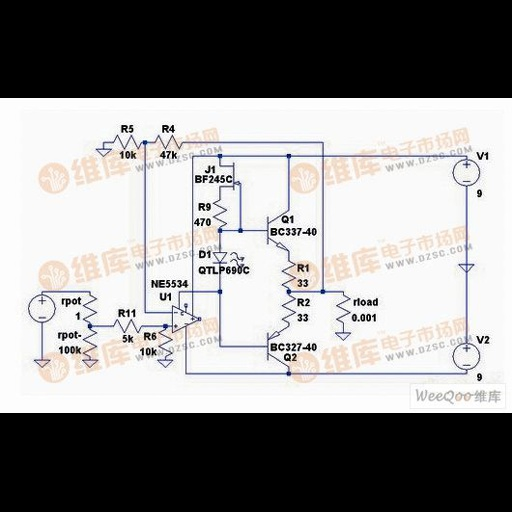amplifier: (170, 302, 201, 336)
npn: (258, 207, 295, 253)
pnp: (256, 326, 293, 370)
seconddiode: (212, 249, 228, 265)
secondresistance: (109, 132, 145, 151), (148, 134, 188, 151), (212, 193, 230, 230), (277, 292, 296, 326), (109, 317, 145, 334), (278, 257, 297, 289), (332, 293, 351, 325), (81, 291, 99, 324), (82, 326, 100, 357), (157, 328, 174, 359)
